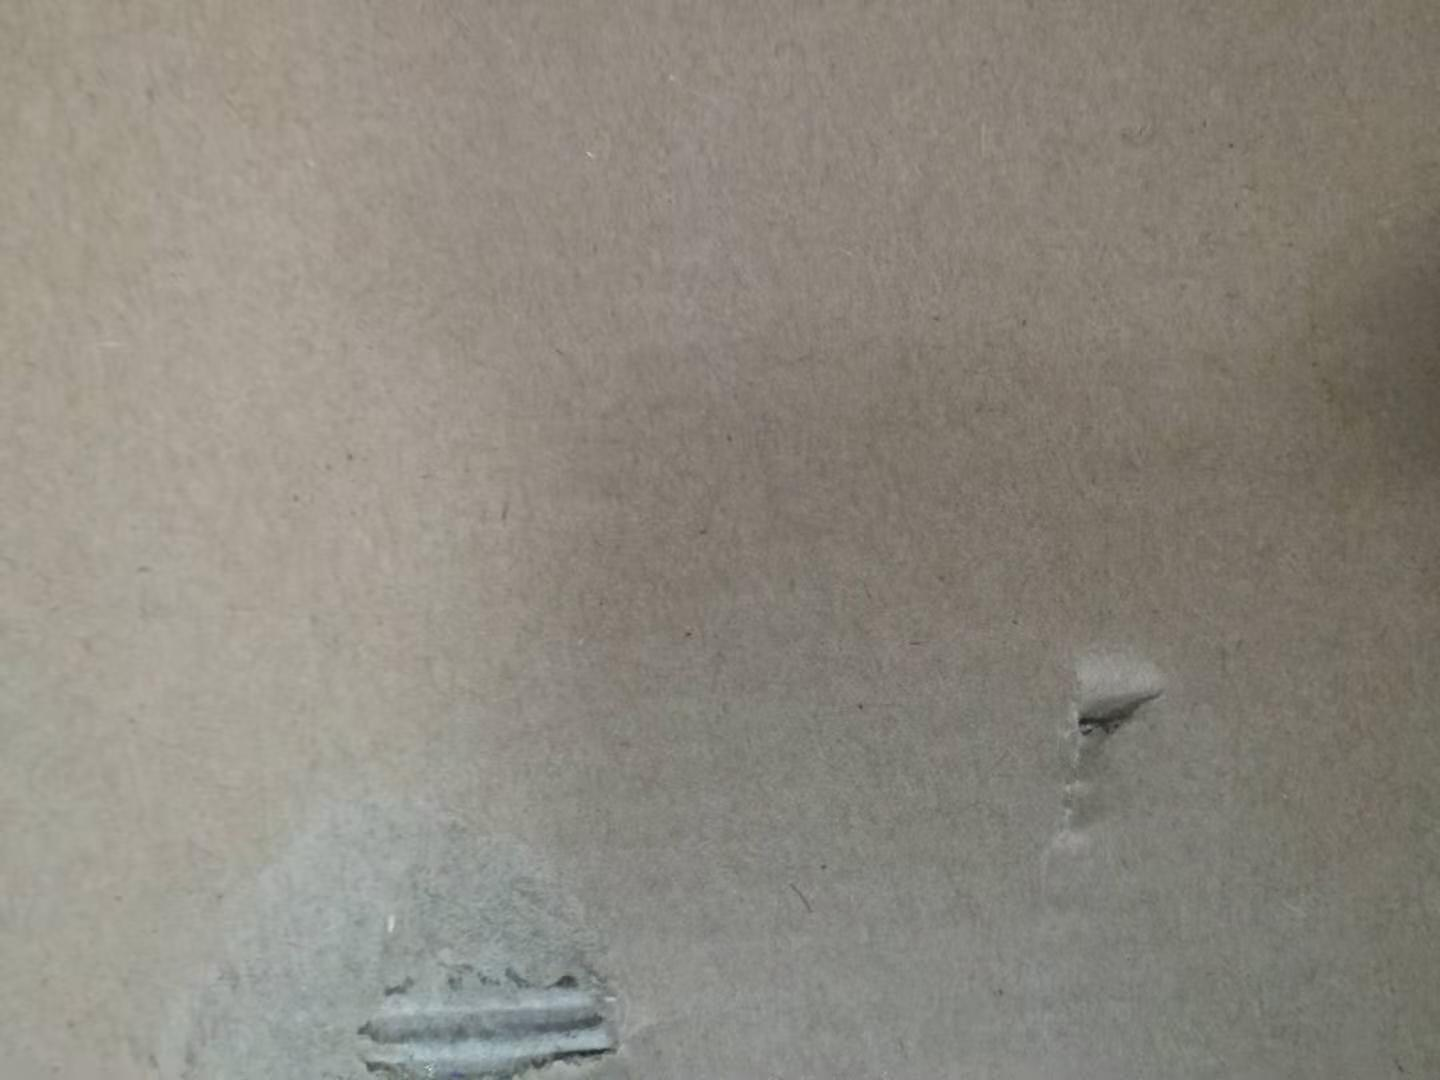defect: (147, 752, 686, 1080), (1020, 615, 1197, 897)
